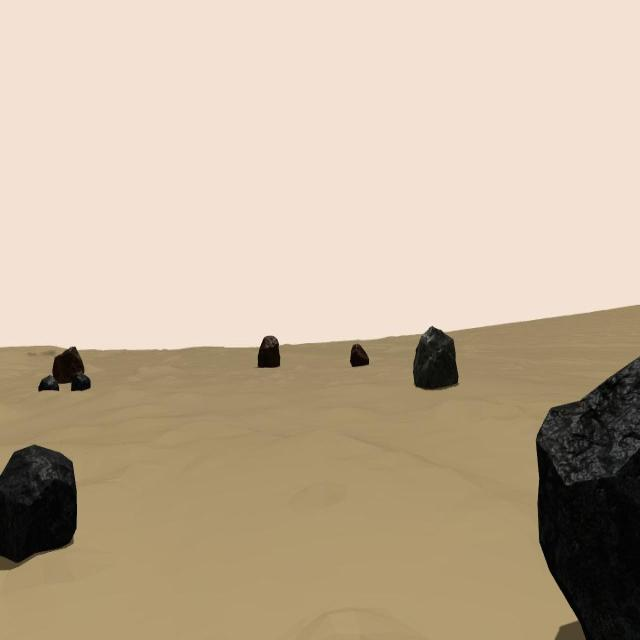rock: (536, 355, 640, 640), (0, 443, 78, 563), (413, 327, 459, 389), (52, 346, 84, 383), (258, 334, 280, 368), (350, 342, 369, 368), (39, 375, 60, 395), (71, 372, 90, 391)
